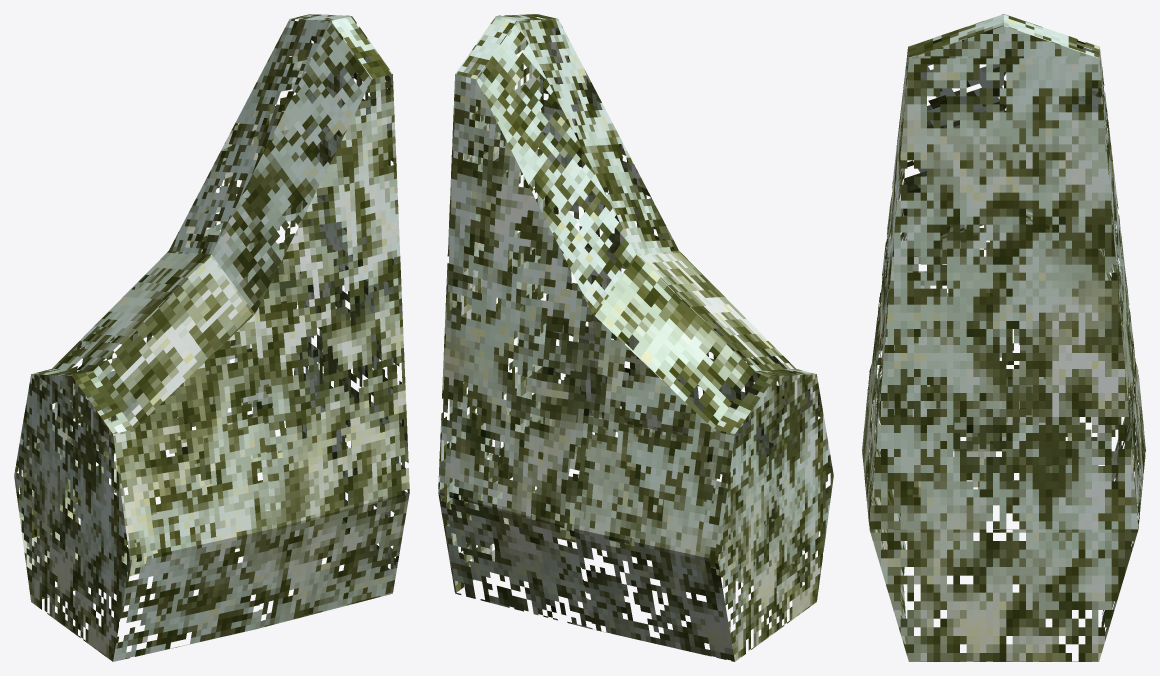
The model's file is bush_connector_ornamental_half_winter.glb.
The picture shows the model from 3 angles, left to right: view 1: azimuth 30°, elevation 25°; view 2: azimuth 150°, elevation 25°; view 3: azimuth 270°, elevation 25°; orthographic projection. The views are drawn at different scales.
Parts seen in each view (by area): view 1: bush_connector_ornamental_half_winter; view 2: bush_connector_ornamental_half_winter; view 3: bush_connector_ornamental_half_winter.
Part boxes in pixels (<box>): bush_connector_ornamental_half_winter: <box>14,14,409,661</box>; bush_connector_ornamental_half_winter: <box>438,14,833,661</box>; bush_connector_ornamental_half_winter: <box>862,14,1145,661</box>.
Size of the model in its own units: 1 by 1.88 by 0.7592.
1 material, 1 textured.
